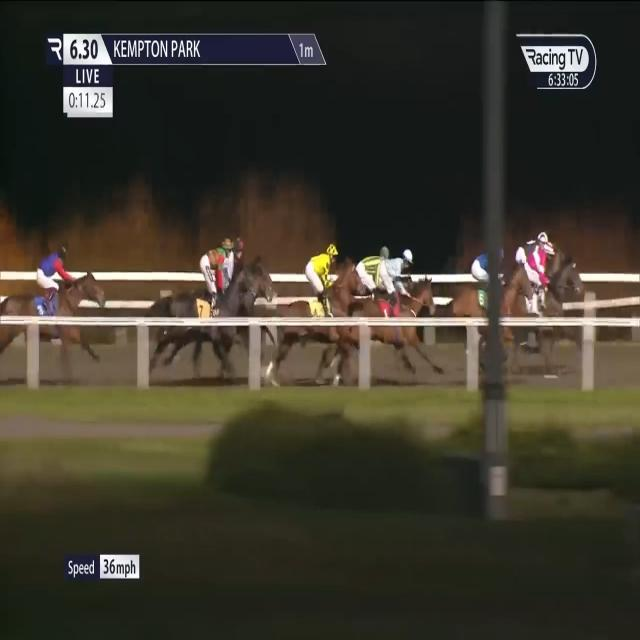horses-racing: (1, 244, 116, 379), (153, 246, 240, 358), (285, 240, 351, 381), (361, 240, 435, 355), (509, 235, 581, 348), (211, 217, 278, 331), (335, 237, 397, 349), (458, 235, 515, 348), (509, 220, 556, 271)
